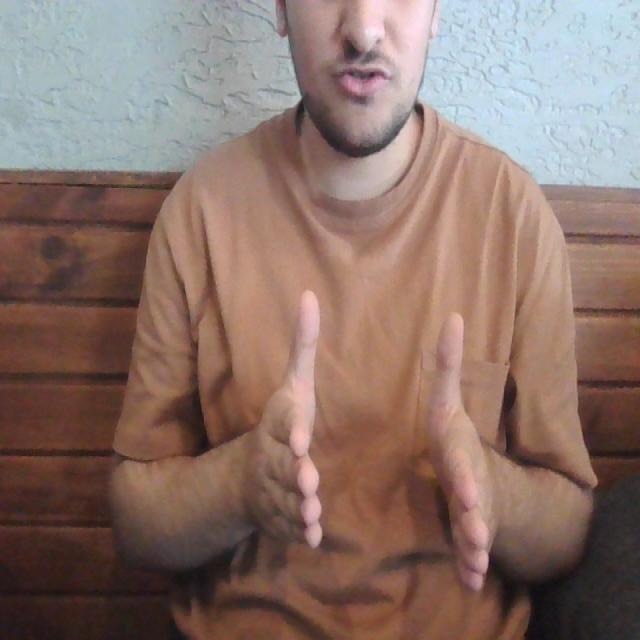Nasil: (241, 279, 508, 595)
